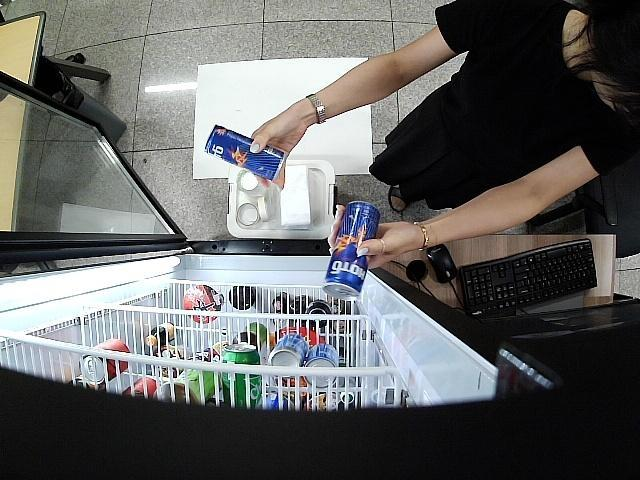16_hot6: (322, 203, 382, 299), (202, 122, 288, 184)
